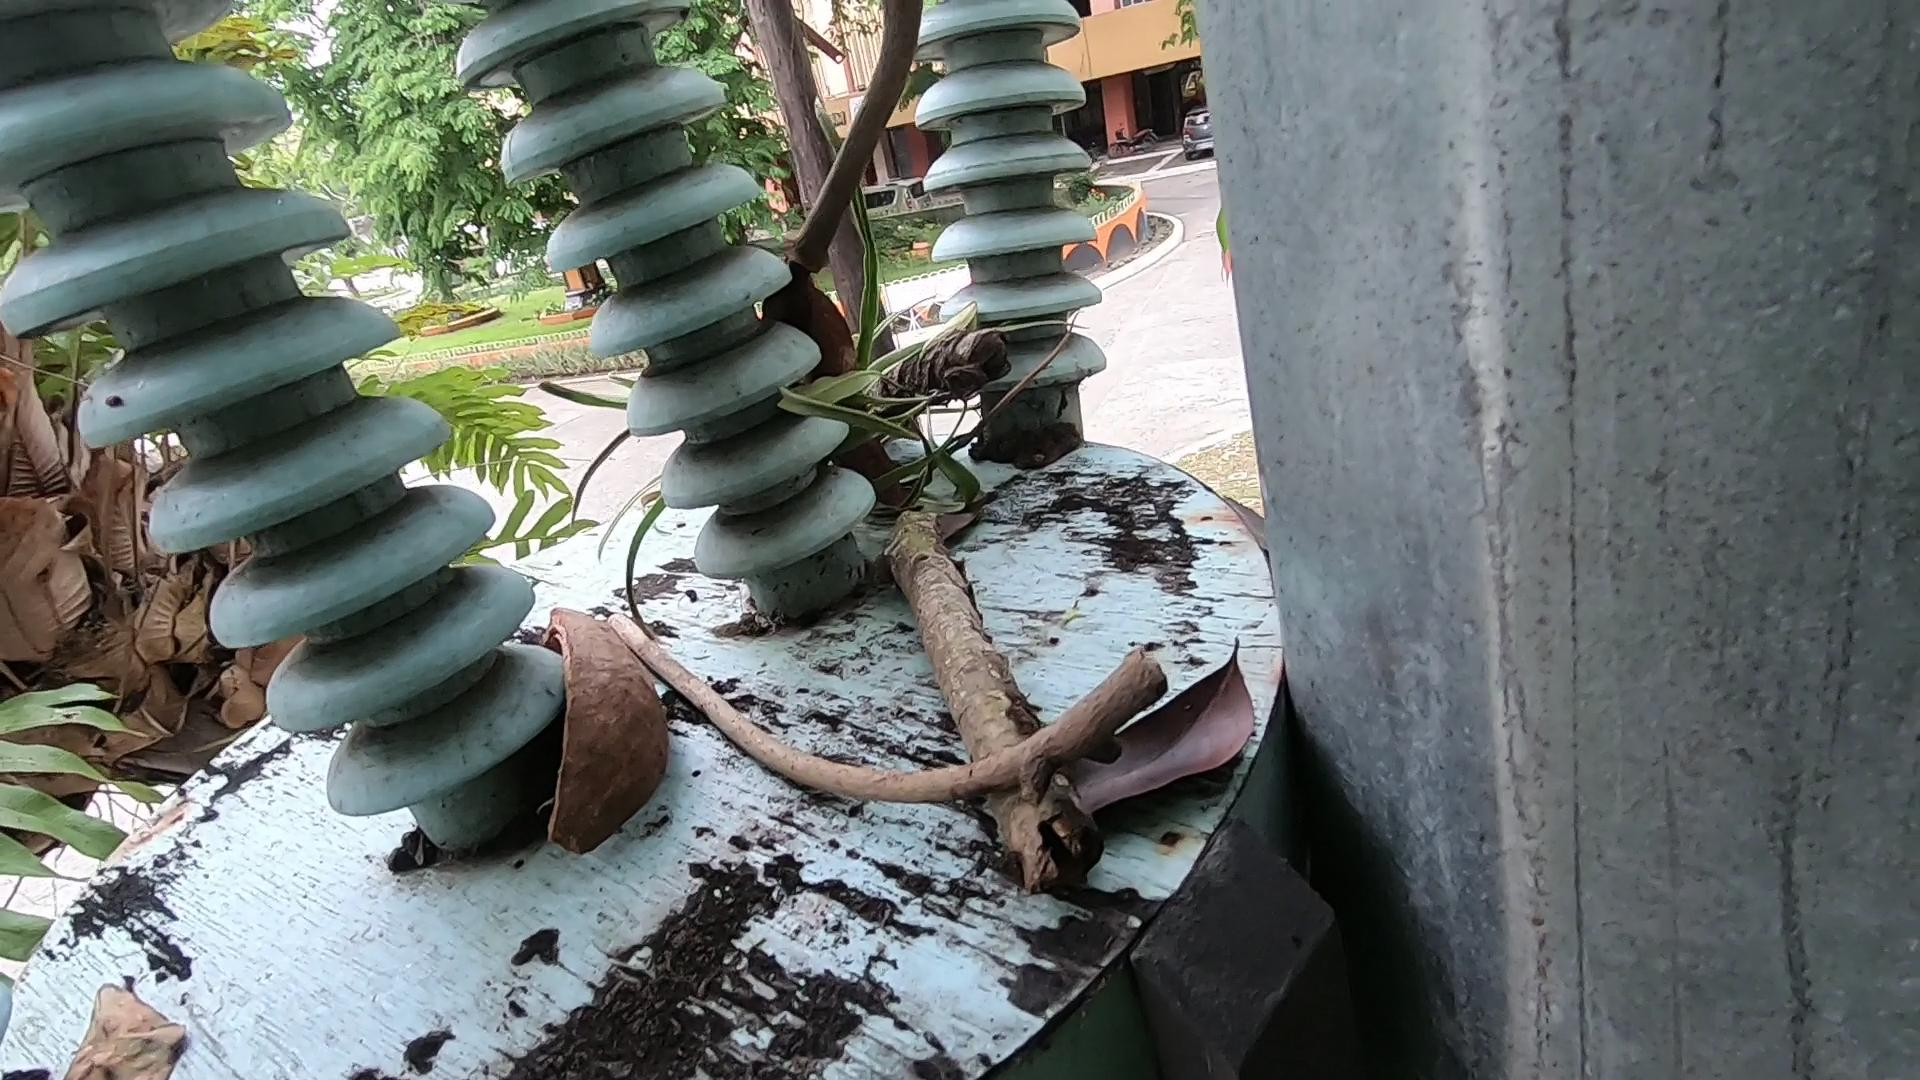leaf: (1093, 622, 1305, 880), (24, 949, 199, 1080)
mahogany fruit: (508, 592, 670, 840), (778, 233, 920, 501)
tree branch: (783, 251, 1129, 976), (608, 601, 1131, 853), (752, 1, 967, 409)
